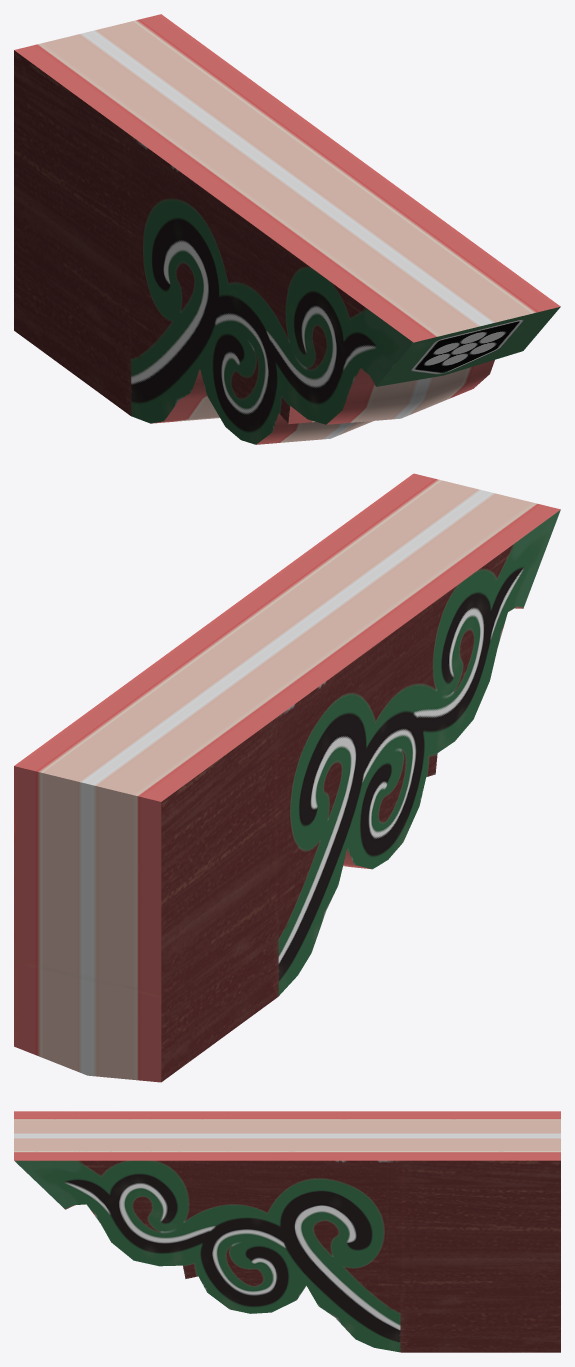
File: SM_CGJ_Gongpo01d.fbx
3 views of the same model, one above another, from view 1: azimuth 30°, elevation 25°; view 2: azimuth 150°, elevation 25°; view 3: azimuth 270°, elevation 25° (orthographic). The views are drawn at different scales.
Parts seen in each view (by area): view 1: SM_CGJ_Gongpo01d; view 2: SM_CGJ_Gongpo01d; view 3: SM_CGJ_Gongpo01d.
Part boxes in pixels (x1=…): SM_CGJ_Gongpo01d: x1=14, y1=14, x2=560, y2=444; SM_CGJ_Gongpo01d: x1=14, y1=473, x2=560, y2=1082; SM_CGJ_Gongpo01d: x1=14, y1=1111, x2=560, y2=1352.
Bounding box in the file's own units: 11.17 × 52.51 × 21.14.
1 material, 1 textured.
